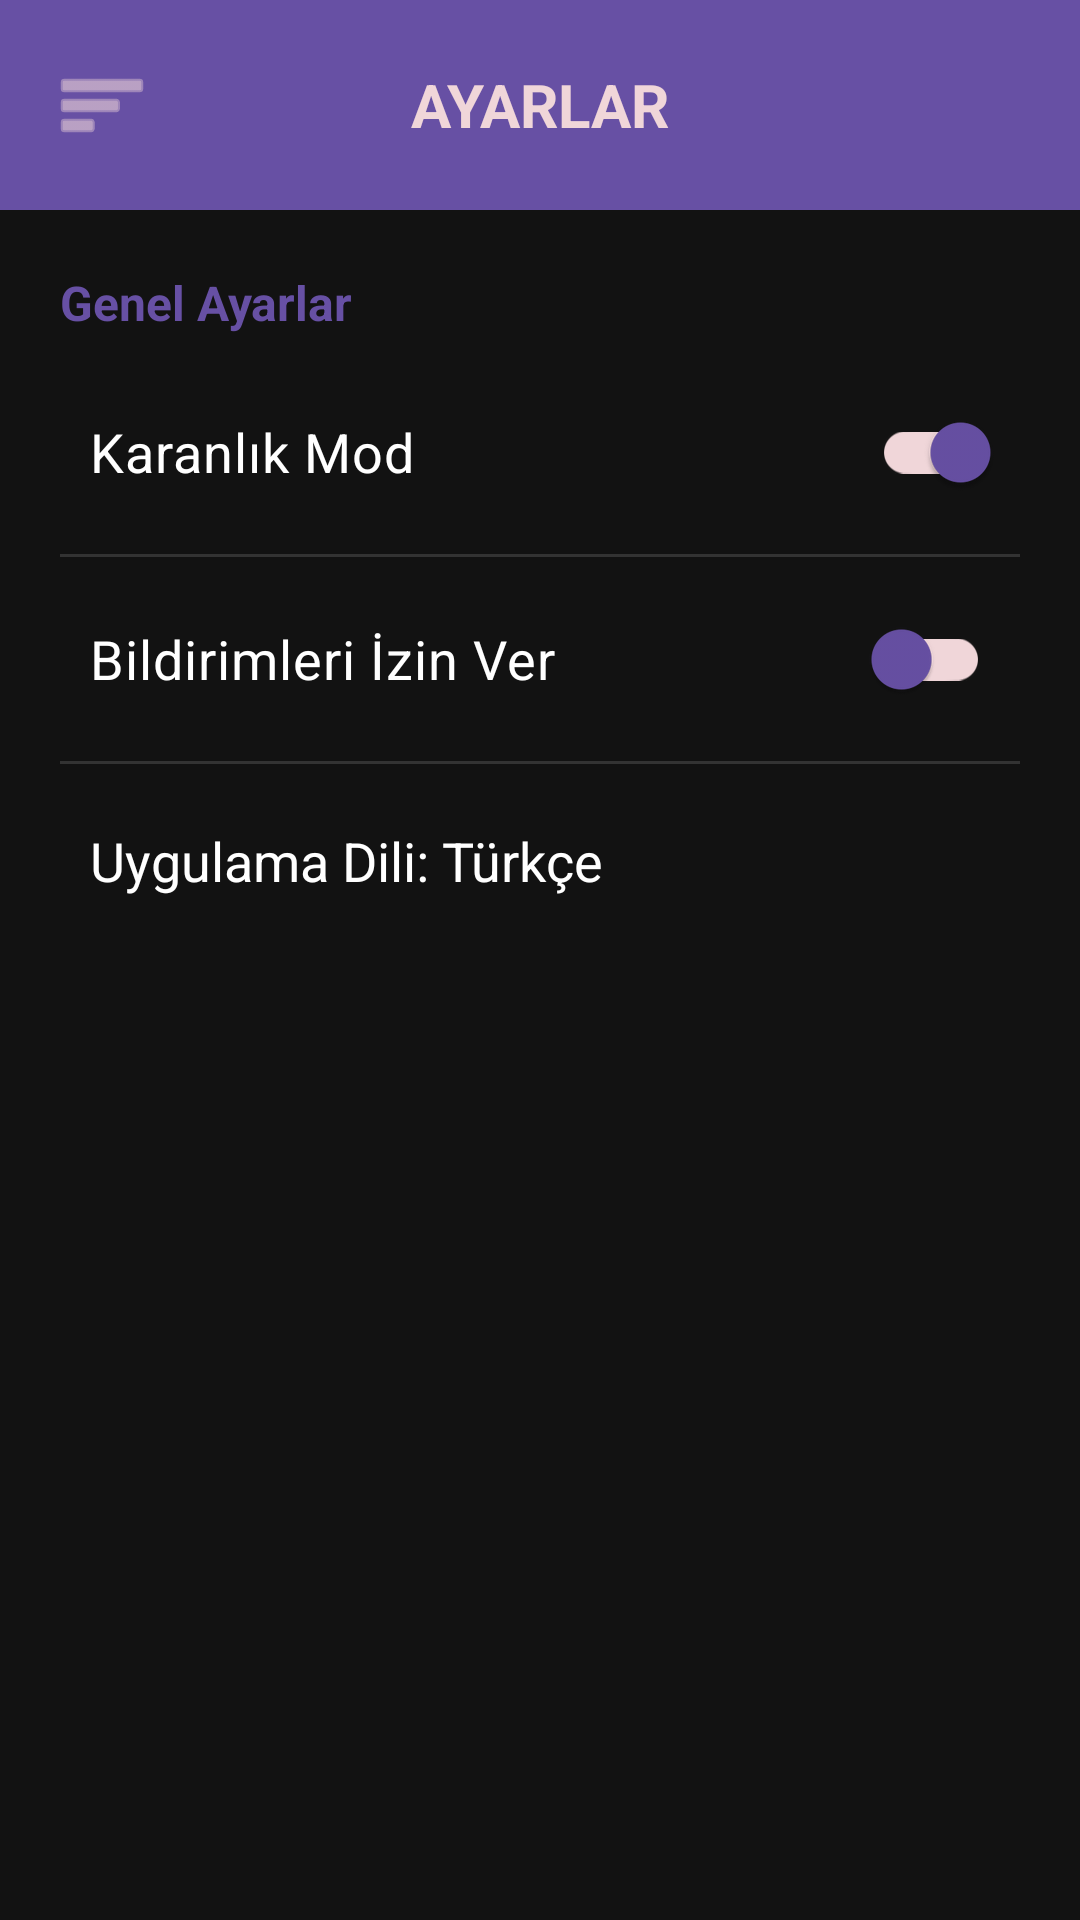

Named icons in this screenshot (1080px x 1920px) and their bounding boxes, bbox=(x1, y1, x2, y2):
Menü Aç: bbox=(61, 79, 143, 132)
